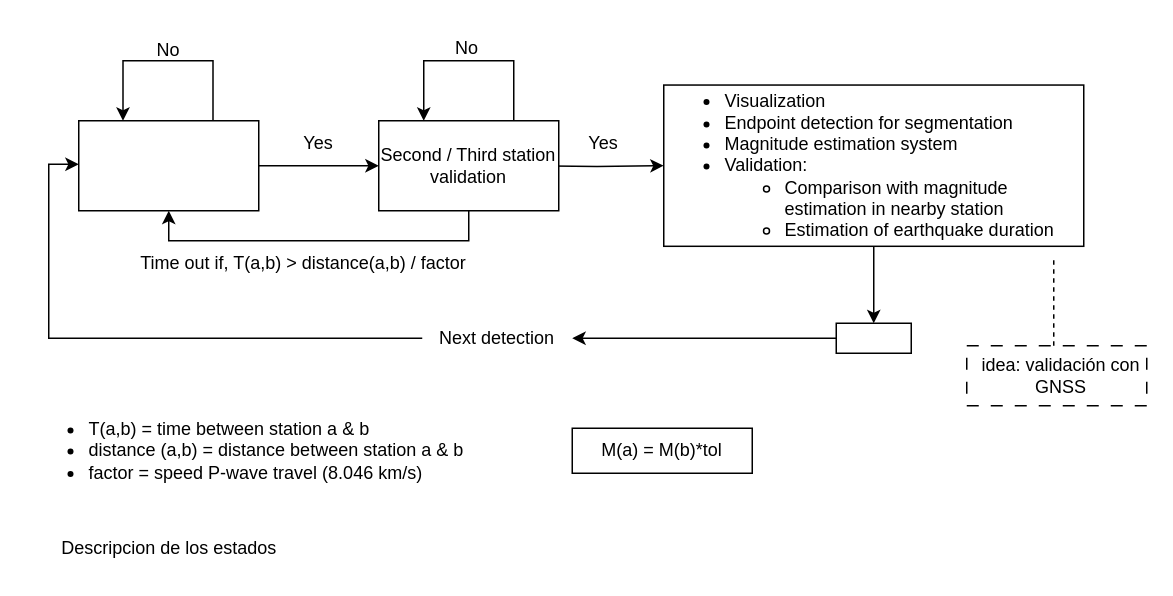
The diagram is 1173 pixels wide and 596 high, and some of its shapes have lost their labels. The box of each missing label's shape, as (x1, y1, x2, y2) in pixels:
Candidate detector P-picking: (77, 119, 259, 211)
Event: (835, 322, 911, 353)
